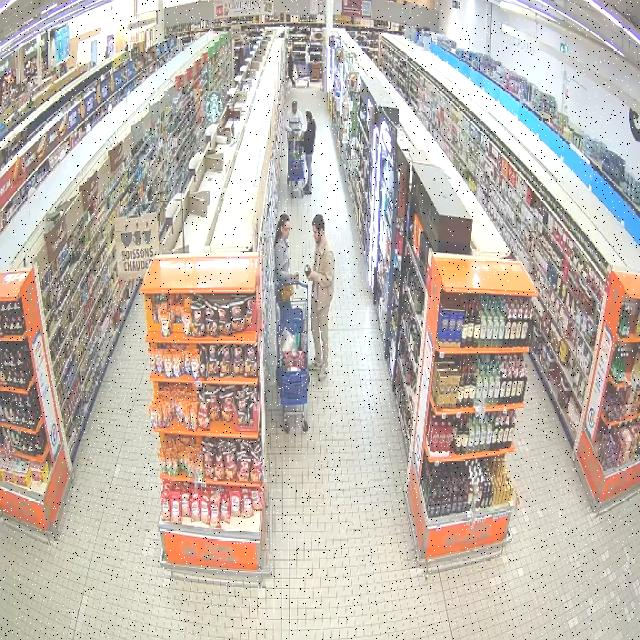article: (305, 264, 310, 276)
bags: (278, 284, 293, 302)
hands: (305, 268, 317, 280)
person: (310, 213, 334, 380), (275, 213, 297, 287)
